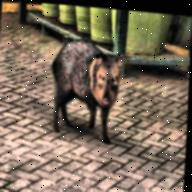boar: (45, 36, 125, 145)
